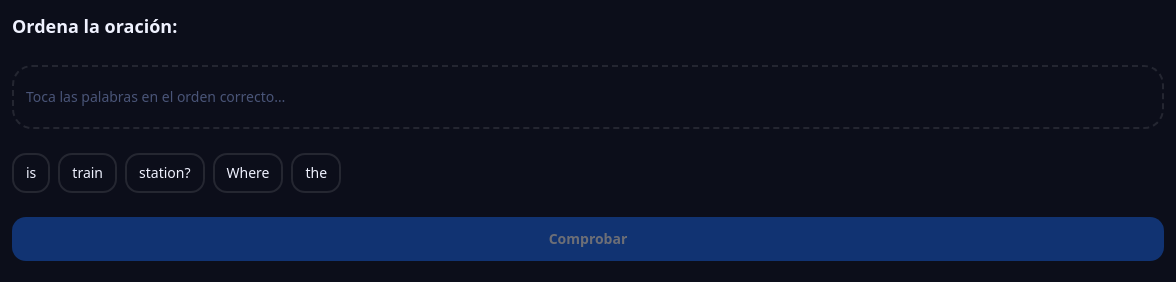
Reorder › disables "Comprobar" until every word has been picked
The width and height of the screenshot is (1176, 282).
expect the button "Comprobar" is disabled: met, box [12, 217, 1164, 261]
Click the button "Where".
click(248, 173)  # box [212, 153, 284, 193]
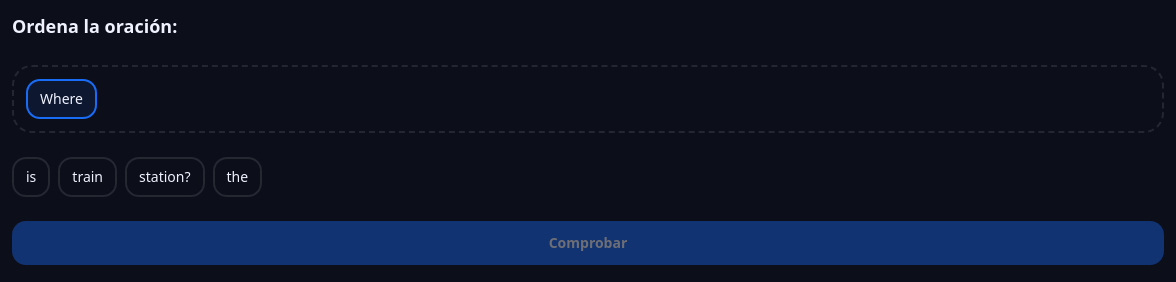
Click the button "is".
click(31, 177)  # box [12, 157, 50, 197]
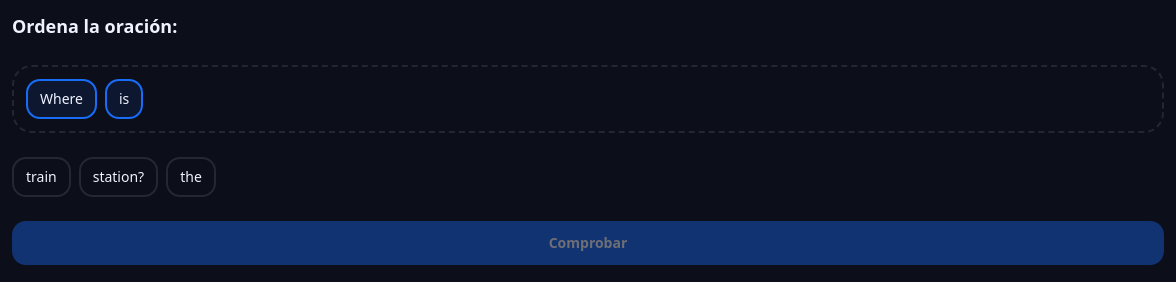
Click the button "the".
click(191, 177)  # box [166, 157, 216, 197]
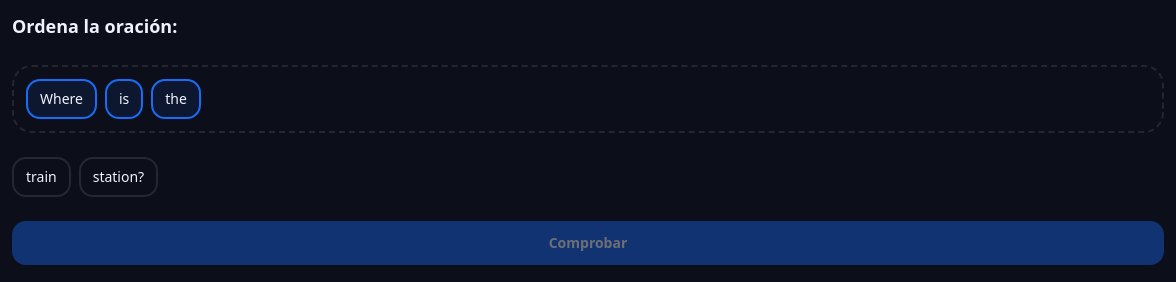
Click the button "train".
click(41, 177)  # box [12, 157, 71, 197]
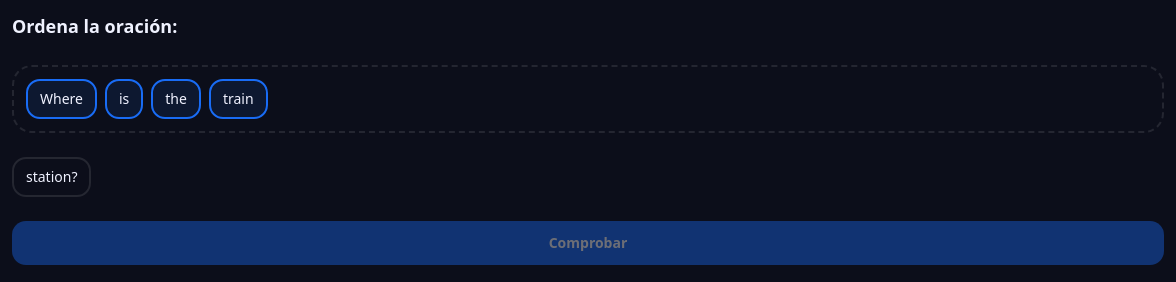
expect the button "Comprobar" is disabled: met, box [12, 221, 1164, 265]
Click the button "station?".
click(52, 177)  # box [12, 157, 92, 197]
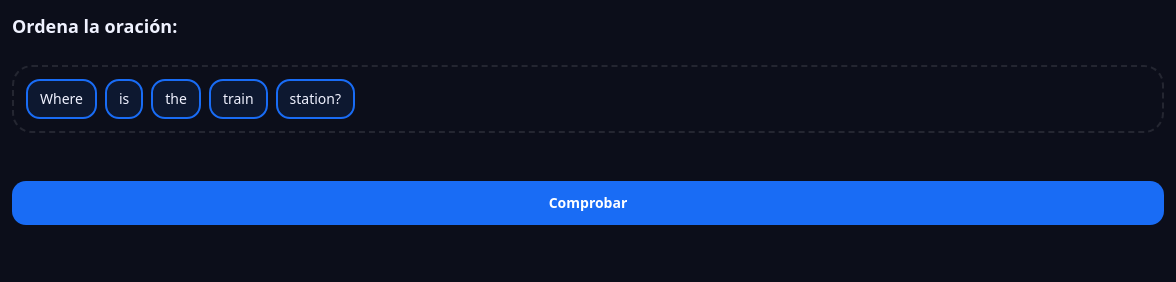
expect the button "Comprobar" is enabled: met, box [12, 181, 1164, 225]
